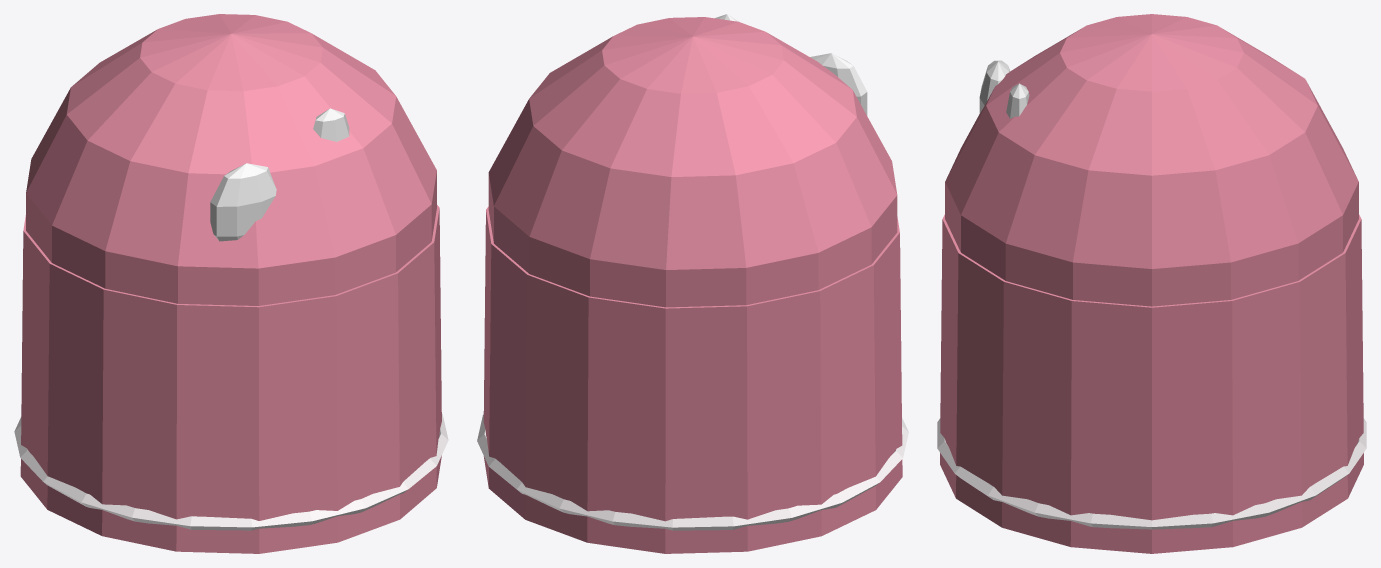
File: gominola_roja.glb
The picture shows the model from 3 angles, left to right: view 1: azimuth 30°, elevation 25°; view 2: azimuth 150°, elevation 25°; view 3: azimuth 270°, elevation 25°; orthographic projection.
Parts seen in each view (by area): view 1: gominola_roja; view 2: gominola_roja; view 3: gominola_roja.
Boxes of the visible parts, bbox=[...] form: gominola_roja: bbox=[14, 14, 448, 553]; gominola_roja: bbox=[477, 14, 908, 553]; gominola_roja: bbox=[937, 14, 1366, 553].
Bounding box in the file's own units: 1.64 × 1.79 × 1.62.
